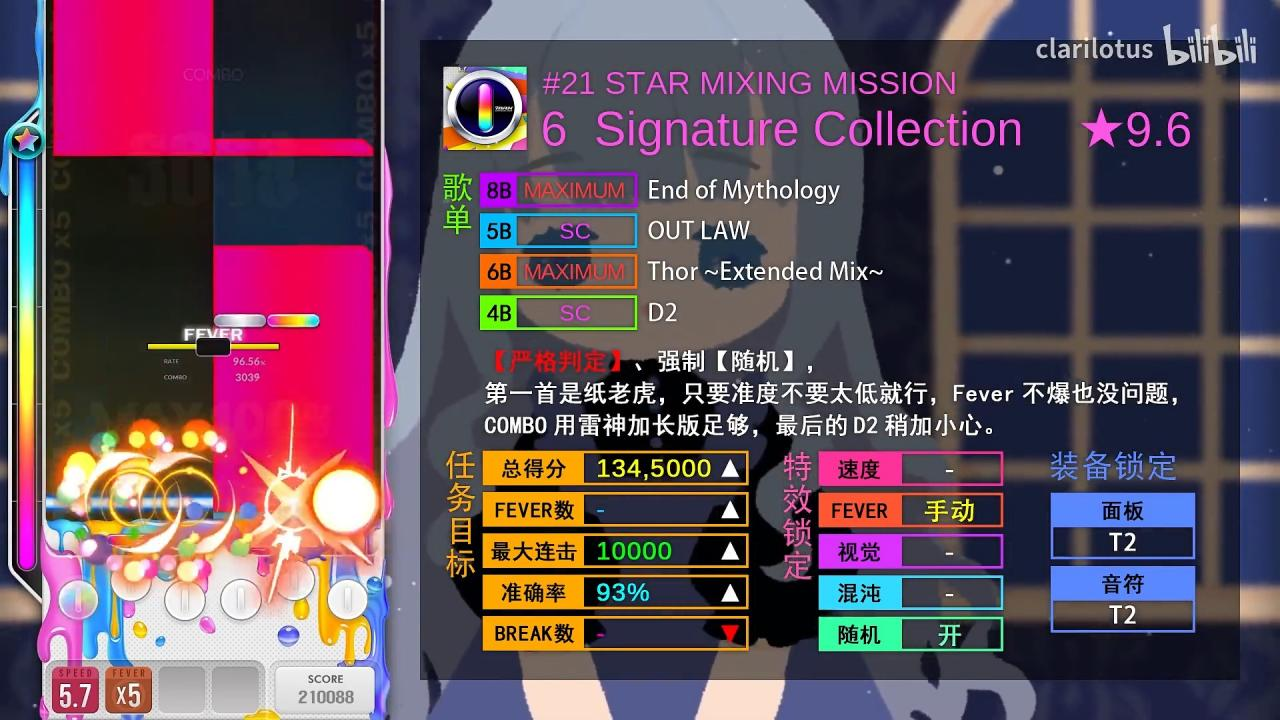note: (267, 313, 321, 328), (214, 313, 266, 328)
xend: (213, 244, 374, 260)
xnote: (212, 137, 374, 157)
xstart: (53, 137, 213, 157)
